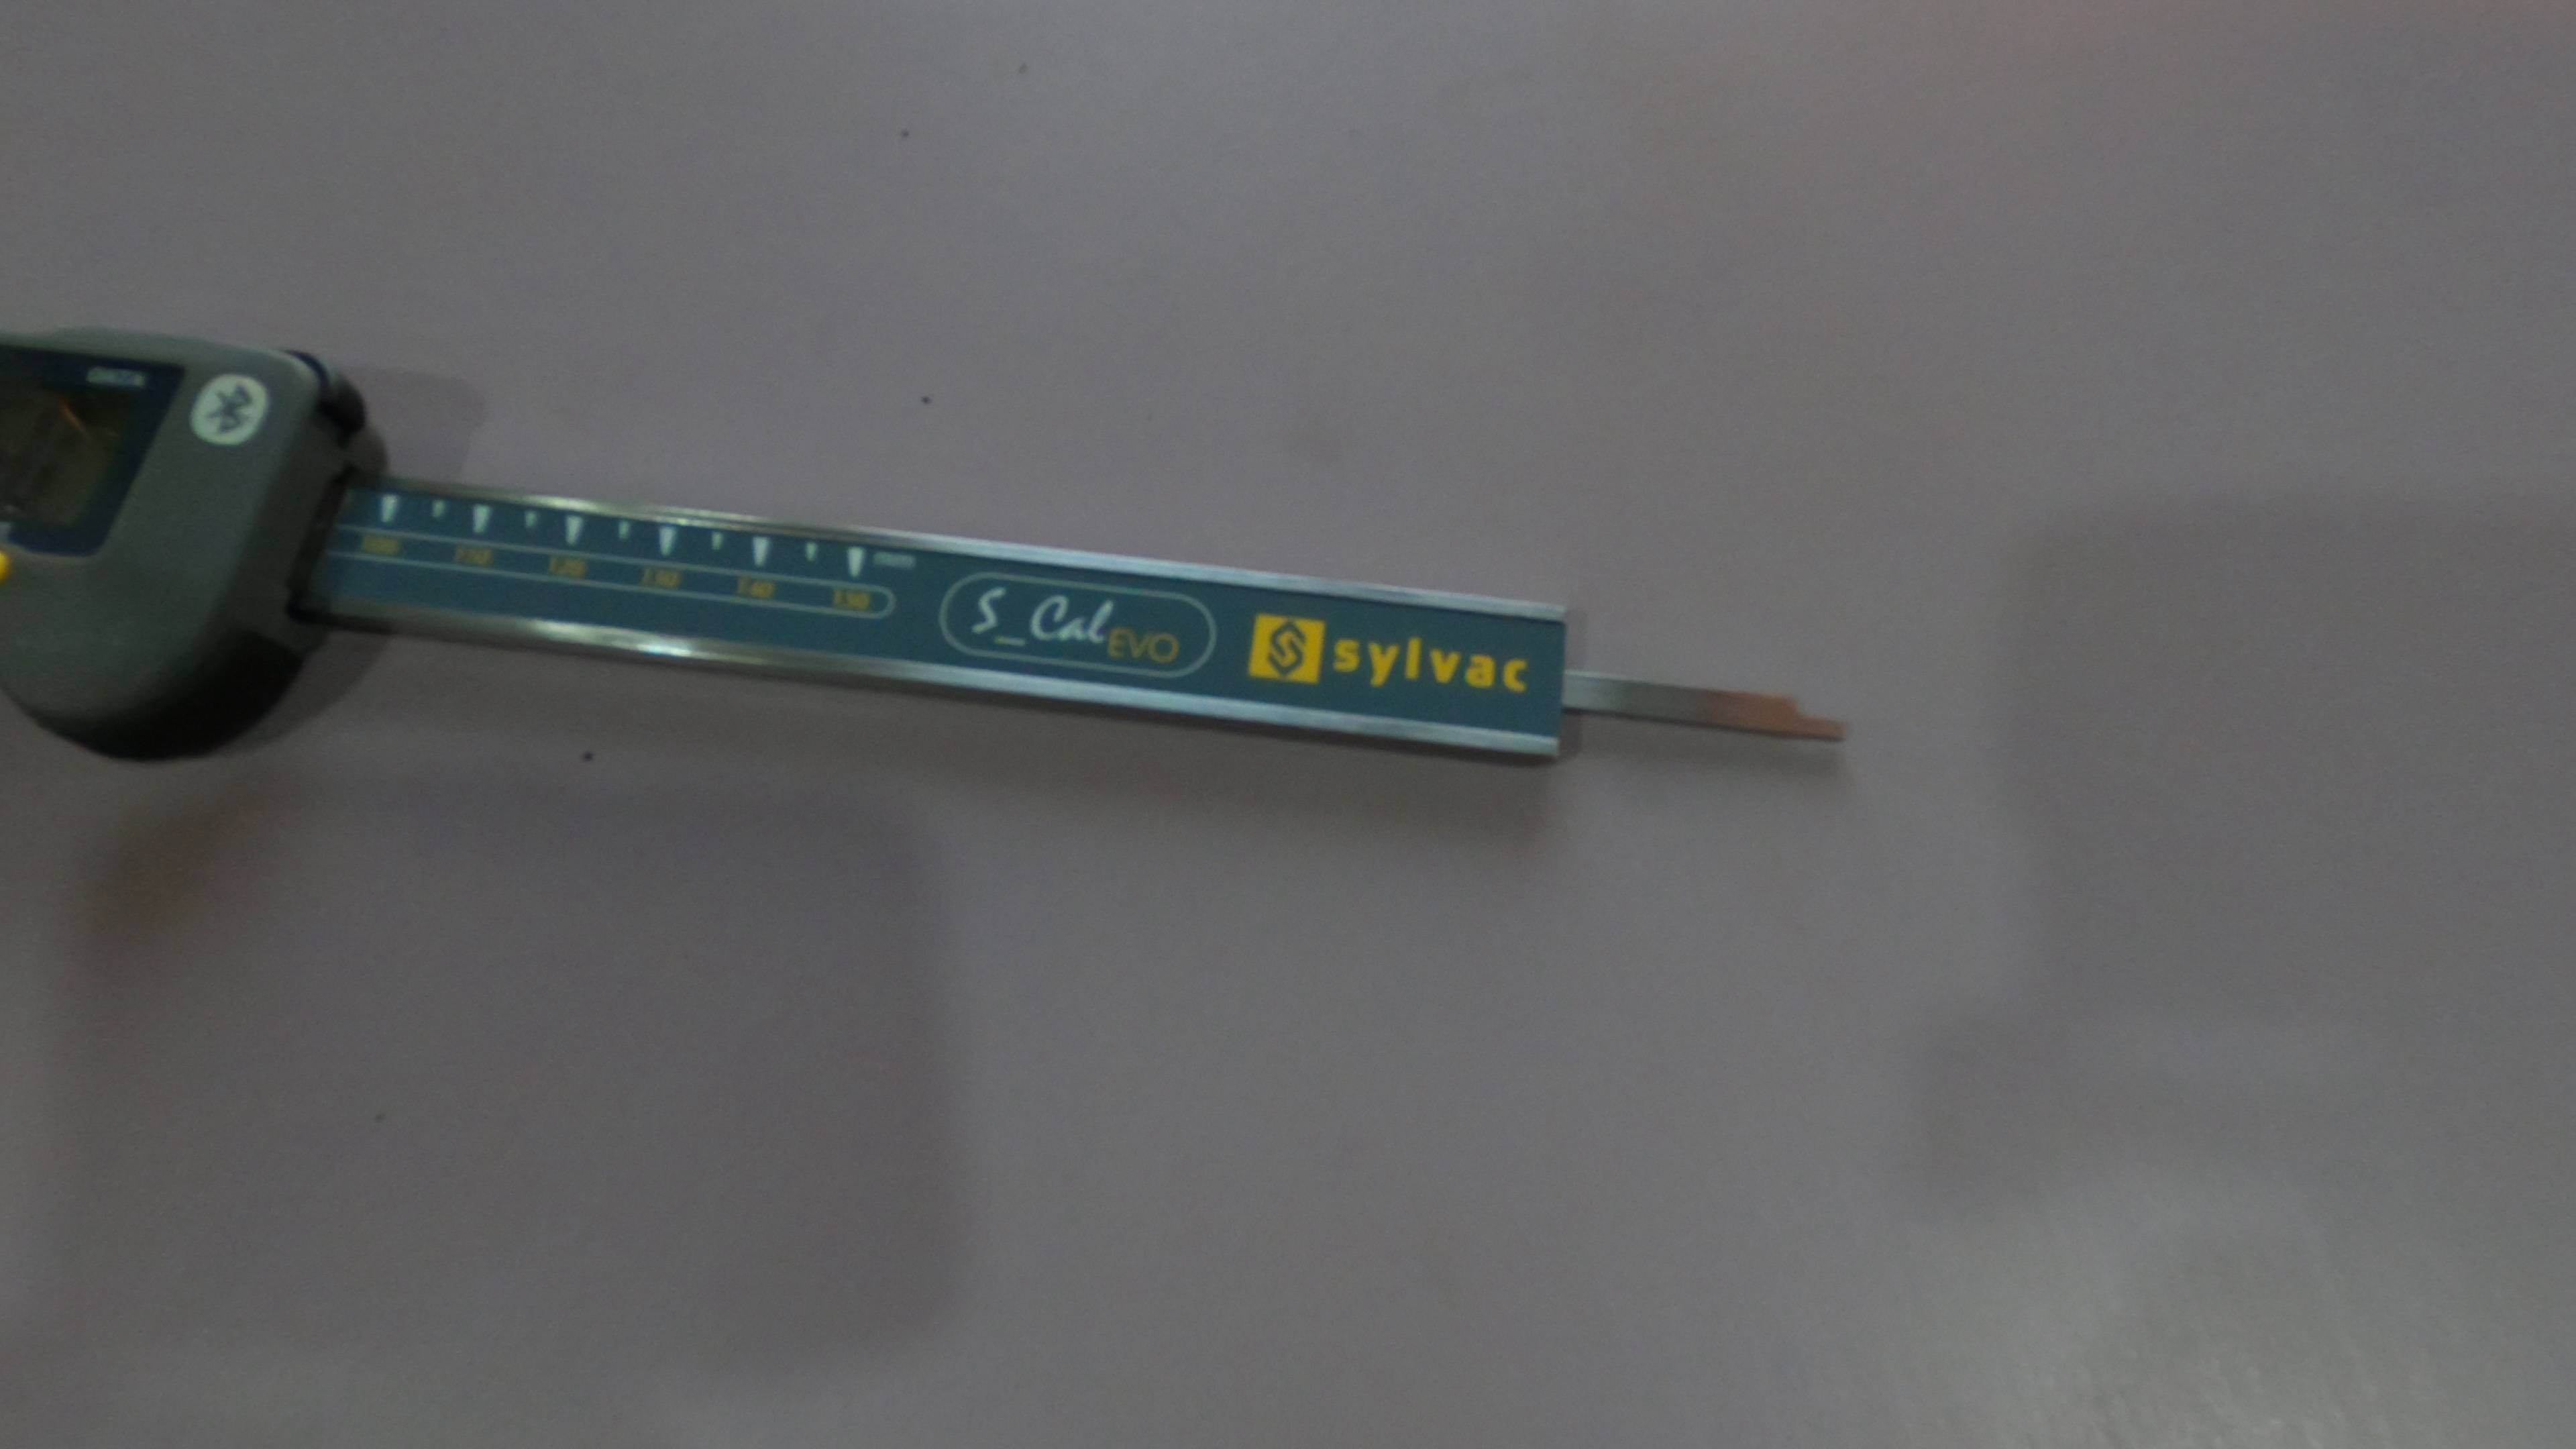vernier_caliper: (4, 257, 1868, 777)
